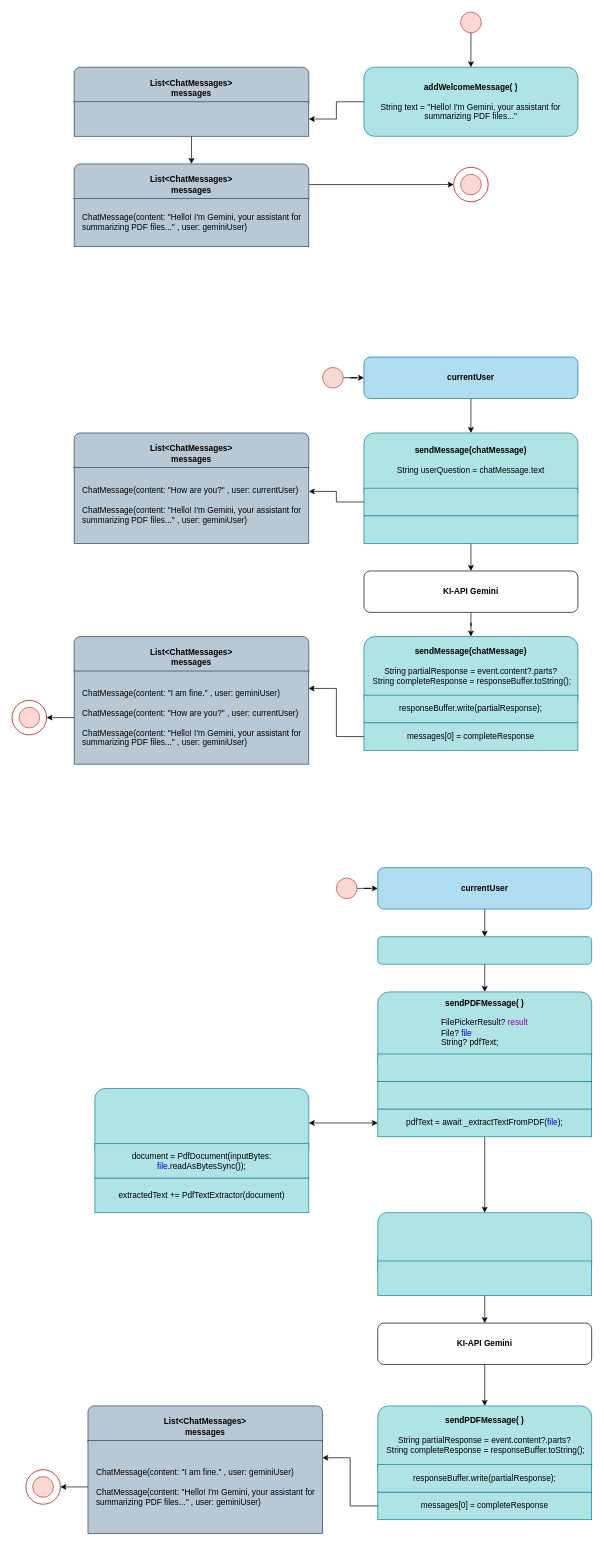
This 604x1546 diagram has some shape labels left out. Here are the shapes that lost their labels. From the top down, the centre of each, then its label:
[470,501]: messages = [ chatMessage , ...messages]
[470,529]: gemini.streamGenerateContent( userQuestion )
[484,950]: press PDF upload Button
[484,1067]: result = await FilePicker.platform.pickFiles()
[484,1095]: file = File( result .files.single.path!);
[201,1122]: extractTextFromPDF( file ) String extractedText = " " return extractedText
[484,1243]: sendPDFMessage( ) String? pdfText ;
[484,1277]: gemini.streamGenerateContent("Summarize this PDF:\n$ pdfText ")
